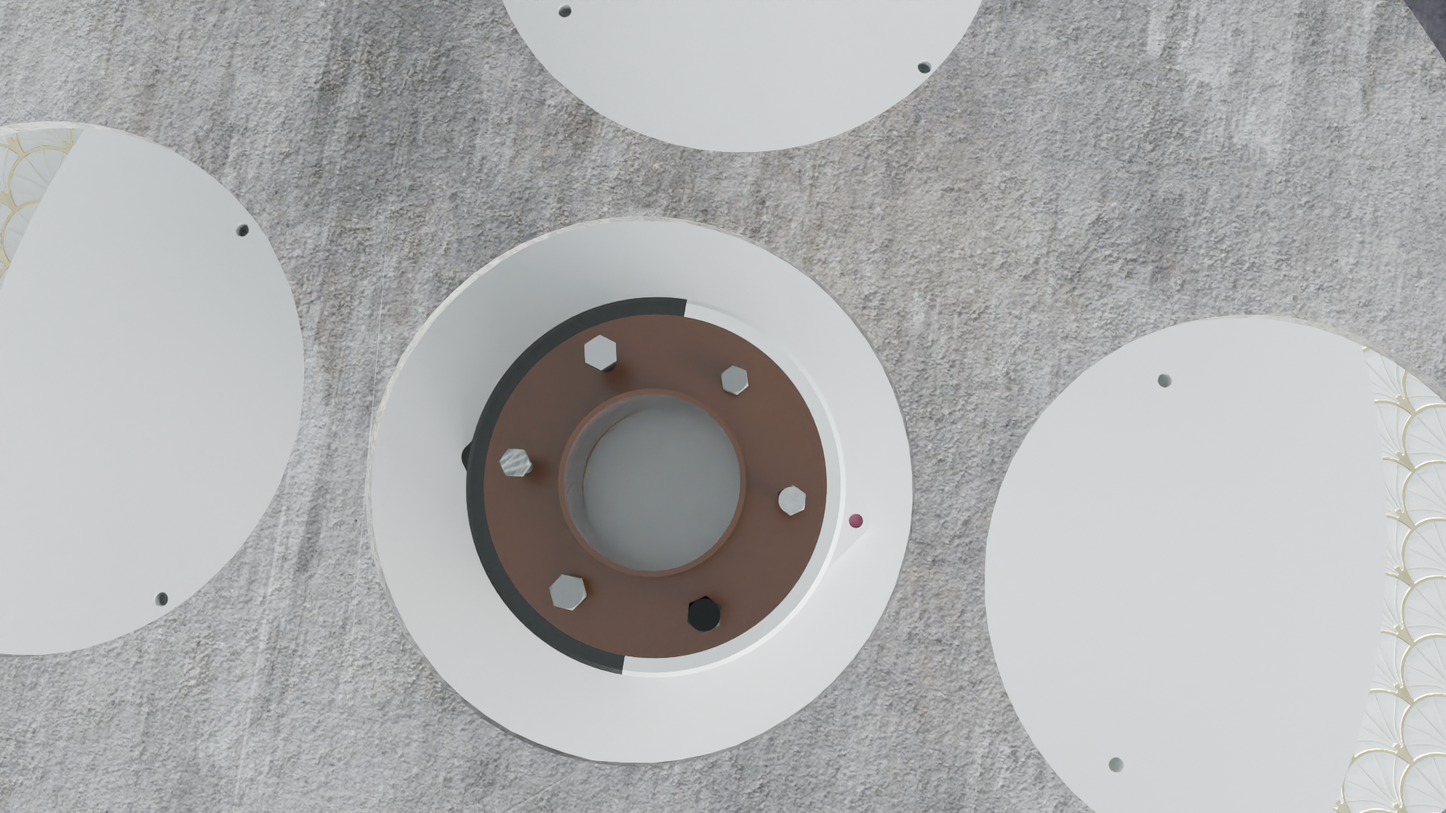bolt: (549, 574, 585, 611), (687, 596, 721, 634), (584, 335, 617, 370), (777, 485, 806, 516), (499, 449, 530, 477), (721, 365, 749, 394)
